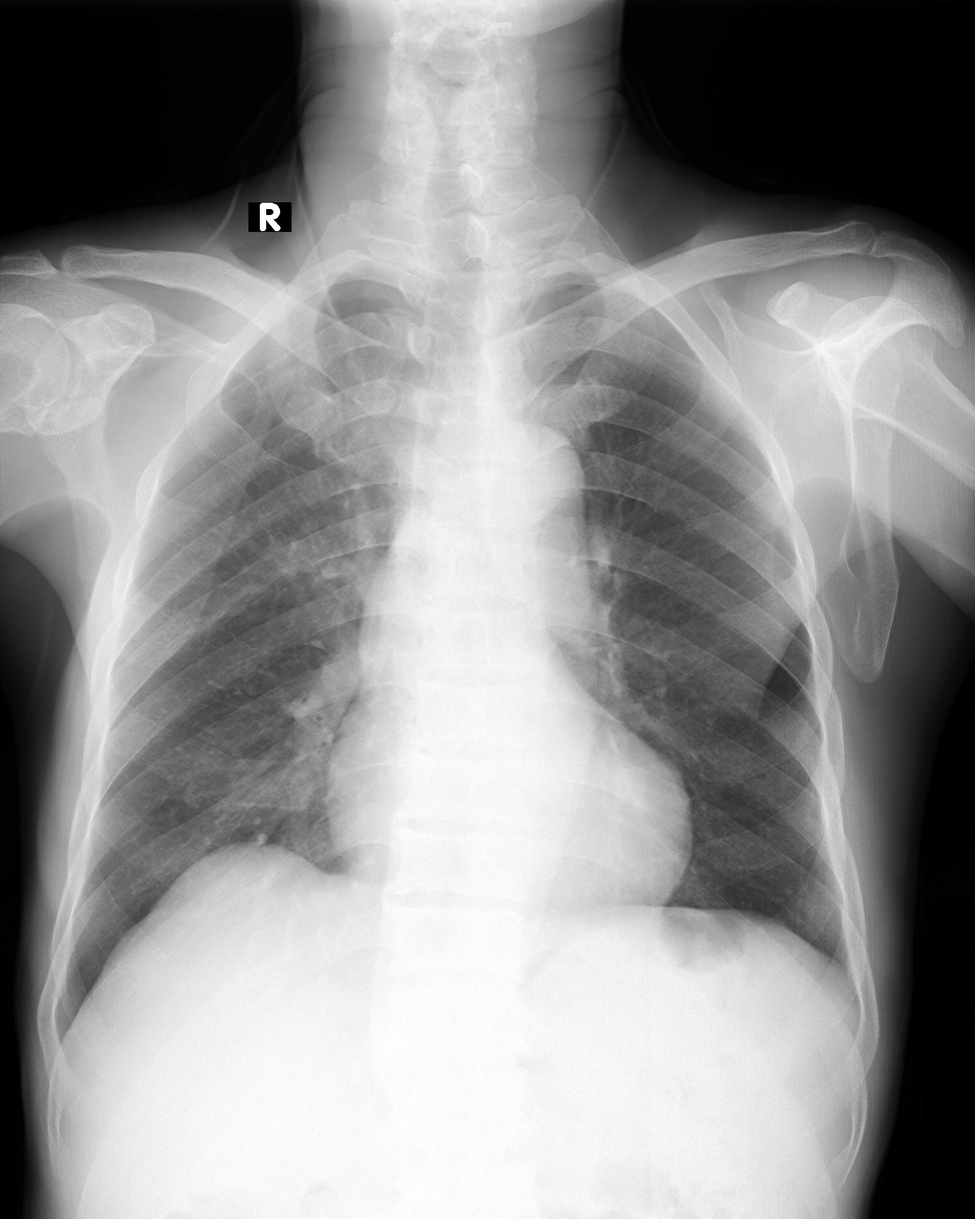Aortic enlargement: (472, 419, 586, 540)
Pleural thickening: (305, 277, 402, 311)
